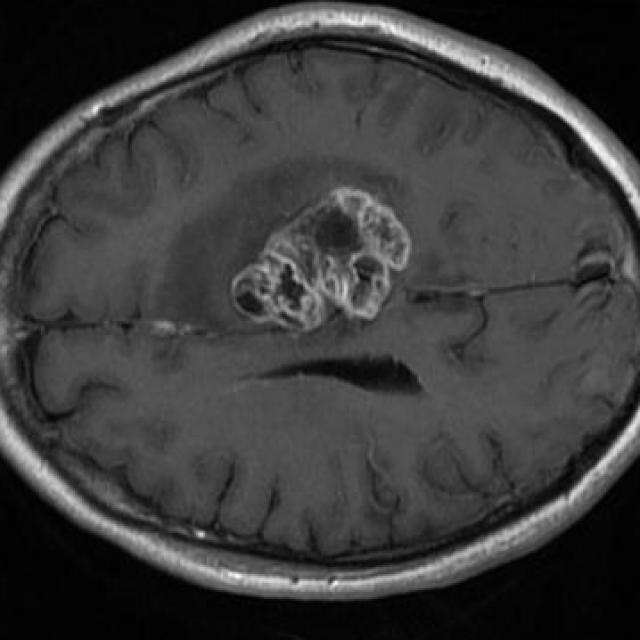glioma: (152, 157, 412, 367)
